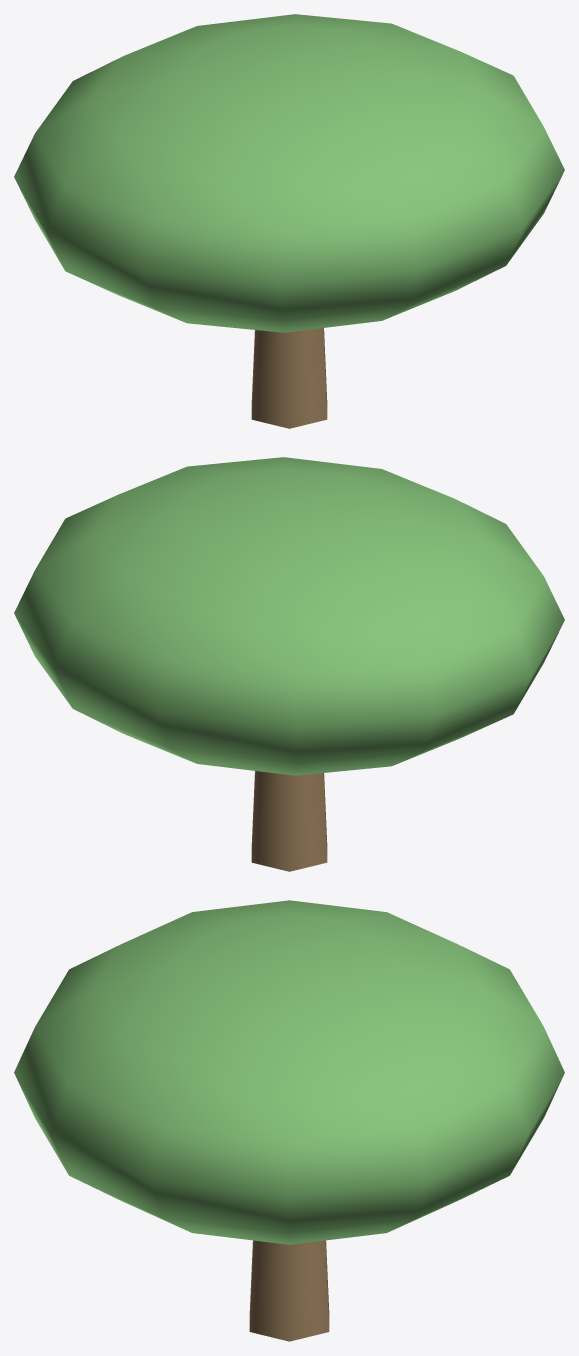
File: tree-spreading.glb
3 views of the same model, one above another, from view 1: azimuth 30°, elevation 25°; view 2: azimuth 150°, elevation 25°; view 3: azimuth 270°, elevation 25° (orthographic). The views are drawn at different scales.
Bounding box in the file's own units: 0.9 × 0.62 × 0.84.
